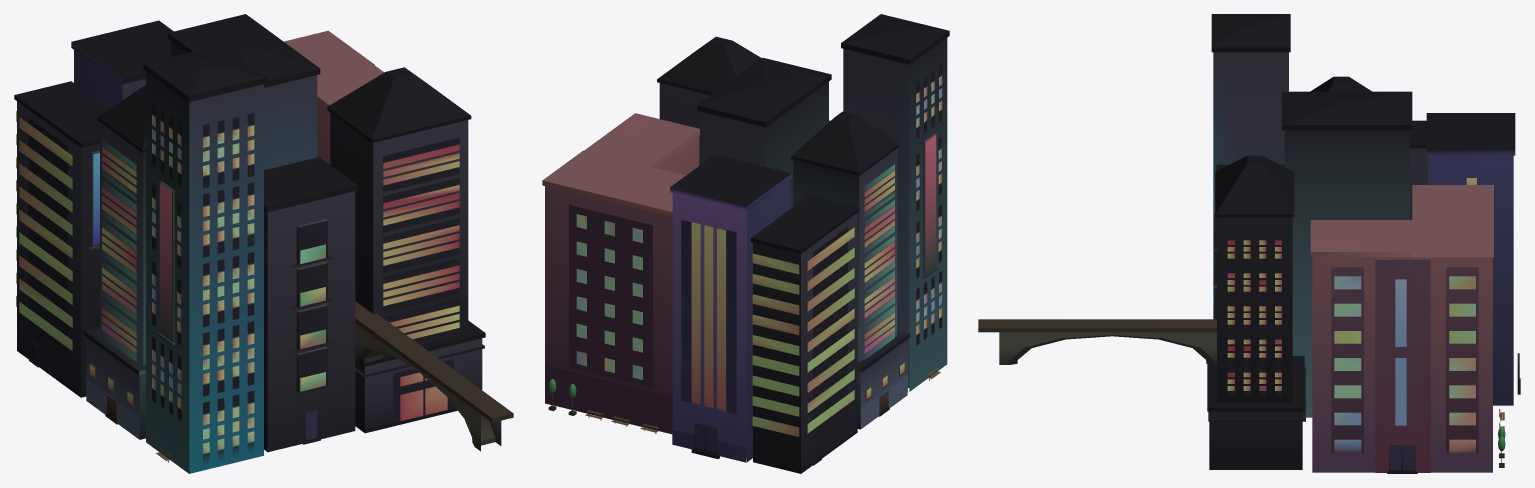
Rendered from bb-tall-ascii.fbx.
The picture shows the model from 3 angles, left to right: view 1: azimuth 30°, elevation 25°; view 2: azimuth 150°, elevation 25°; view 3: azimuth 270°, elevation 25°; orthographic projection. The views are drawn at different scales.
Visible parts, largest first — view 1: building-block-tall; view 2: building-block-tall; view 3: building-block-tall.
Boxes of the visible parts, <box> form: building-block-tall: <box>14,14,513,473</box>; building-block-tall: <box>542,14,949,473</box>; building-block-tall: <box>978,14,1520,473</box>.
Size of the model in its own units: 67.04 by 79.67 by 116.
